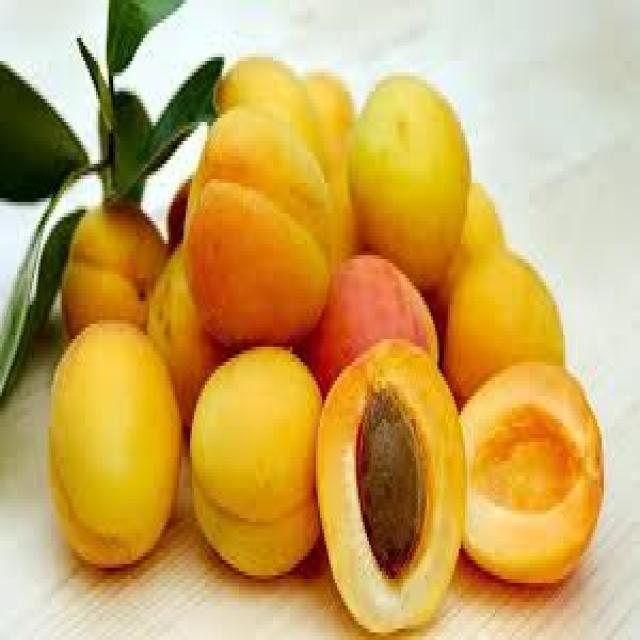kayisi: (51, 60, 609, 635)
kayisi_cekirdegi: (358, 392, 431, 574)
kayisi_yapragi: (0, 7, 192, 363)
